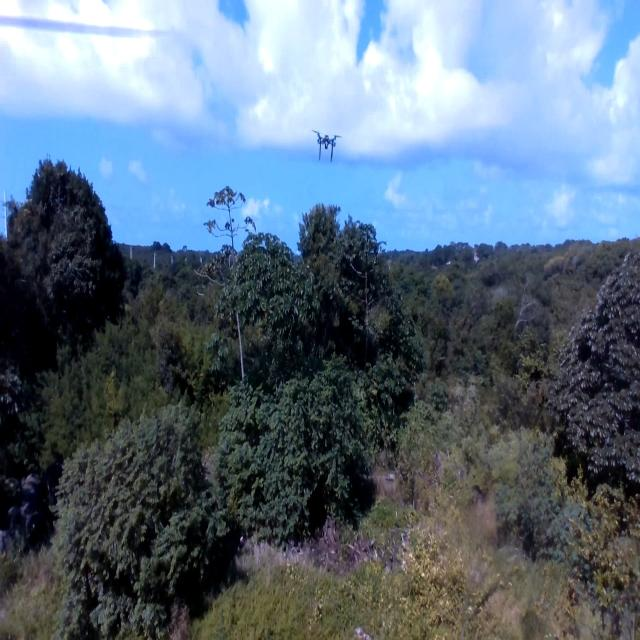-uav-: (307, 121, 346, 167)
